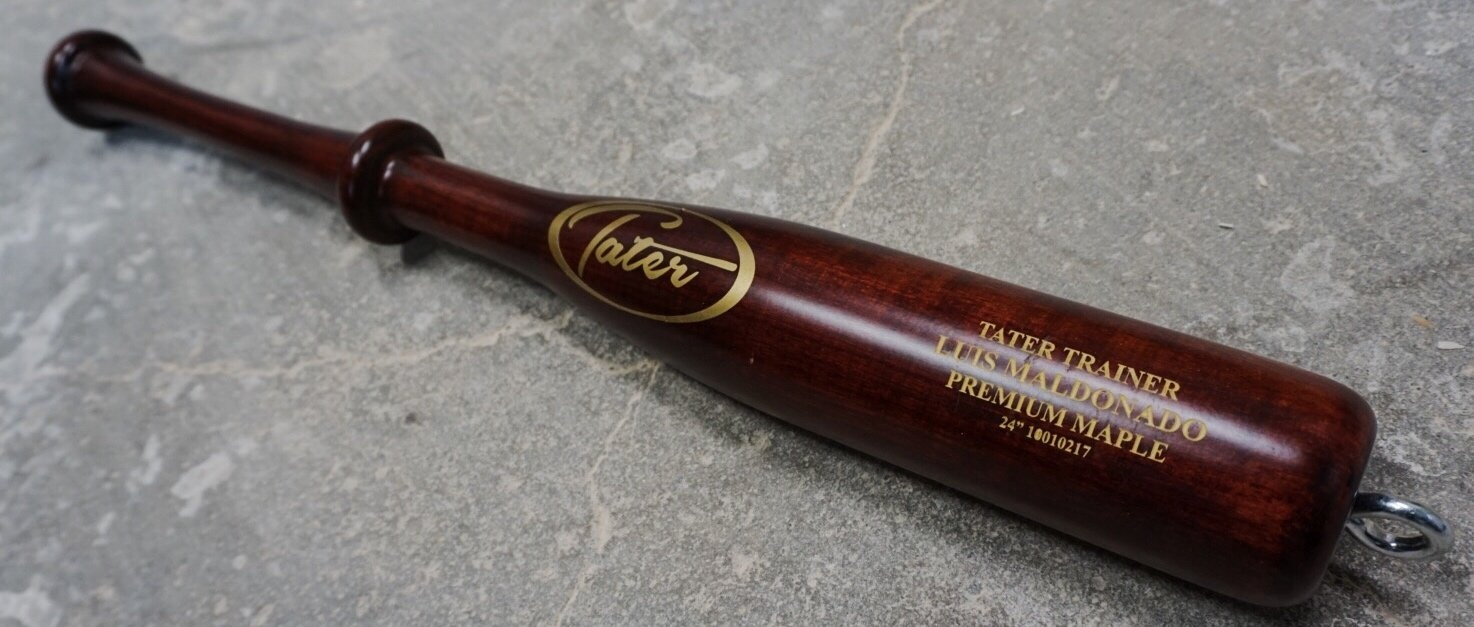bita: (49, 34, 1328, 581)
